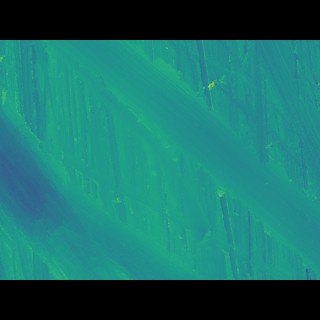Loch: (41, 70, 320, 245), (0, 101, 205, 250)
